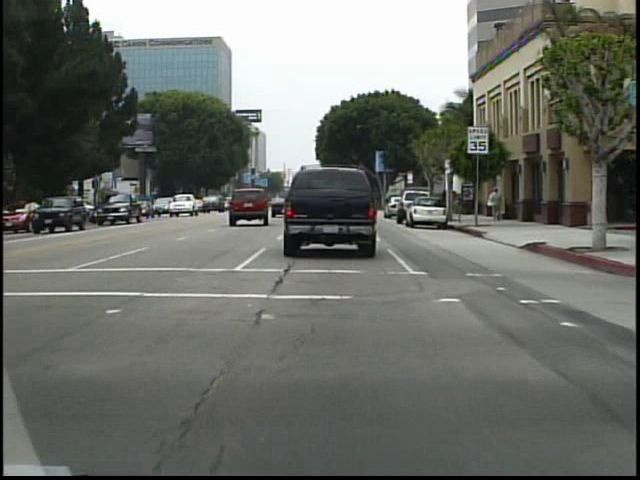person: (487, 182, 505, 227), (438, 186, 453, 221)
